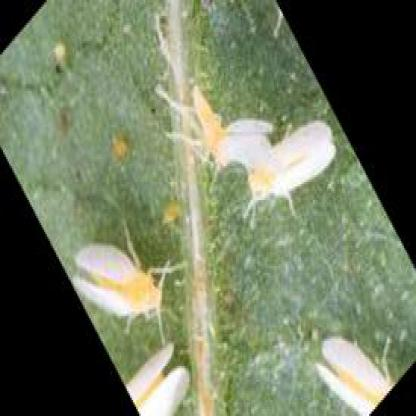whitefly: (73, 242, 165, 320), (250, 122, 335, 199)
